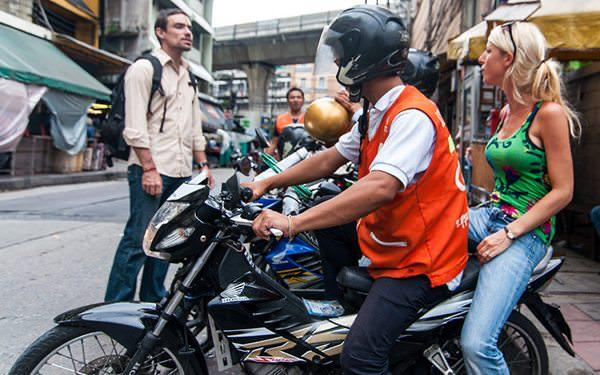With Helmet: (312, 1, 419, 101)
